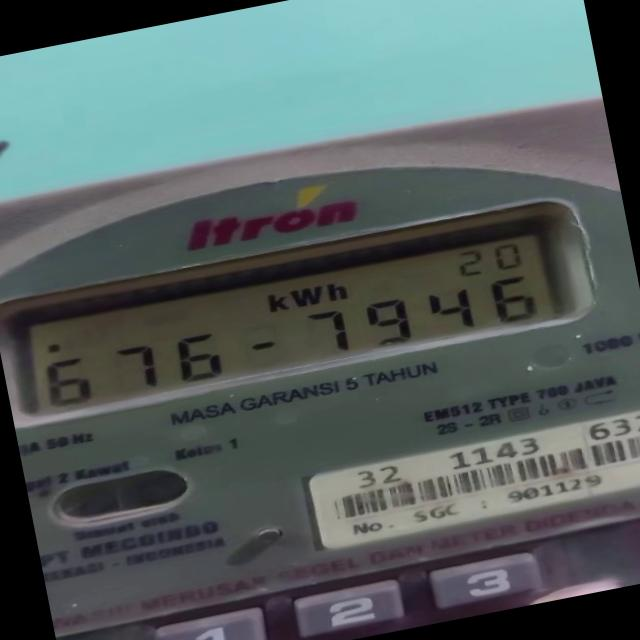LCD: (1, 202, 576, 428)
